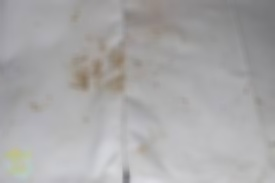earth: (69, 47, 126, 91)
